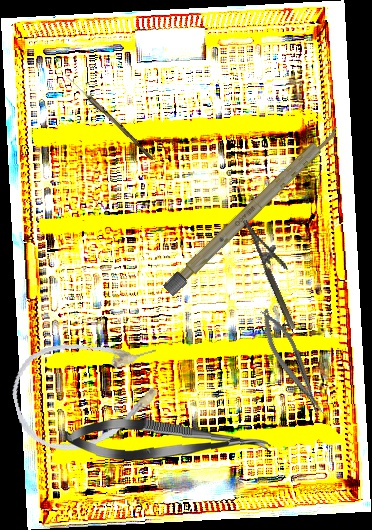Cannula: (3, 322, 175, 462)
Micro Scissor: (64, 416, 272, 466)
Needle Holder: (253, 303, 329, 422), (242, 212, 311, 331)
Scalpel Handle: (162, 122, 343, 297)
Surgical Spoon: (63, 73, 156, 161)
